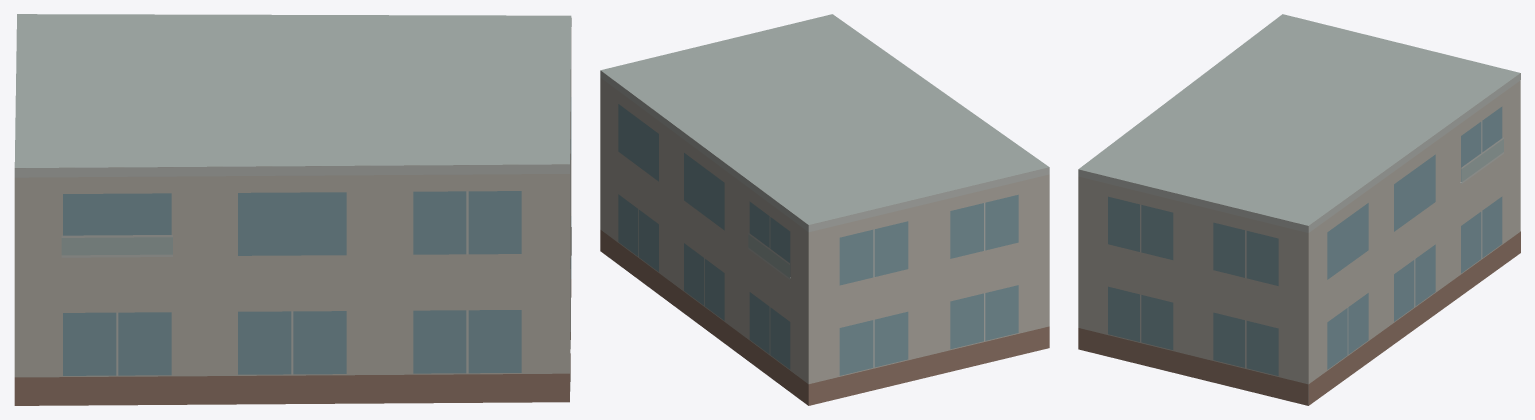
The model's file is survey-upis-32582539.glb.
3 renders of one model, left to right at view 1: azimuth 30°, elevation 25°; view 2: azimuth 150°, elevation 25°; view 3: azimuth 270°, elevation 25°, orthographic. The views are drawn at different scales.
Parts seen in each view (by area): view 1: survey-upis-32582539.tmp; view 2: survey-upis-32582539.tmp; view 3: survey-upis-32582539.tmp.
Boxes of the visible parts, x1,y1,x2,y2 form: survey-upis-32582539.tmp: (14, 14, 571, 405); survey-upis-32582539.tmp: (600, 14, 1049, 405); survey-upis-32582539.tmp: (1078, 14, 1520, 405).
Size of the model in its own units: 15.41 by 6.1 by 13.6.
